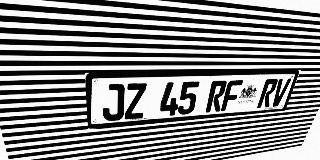4: (159, 82, 181, 117)
5: (177, 81, 200, 115)
F: (221, 80, 243, 111)
J: (102, 84, 125, 121)
R: (205, 80, 228, 112), (257, 79, 279, 108)
V: (269, 78, 292, 107)
Z: (125, 83, 147, 120)
